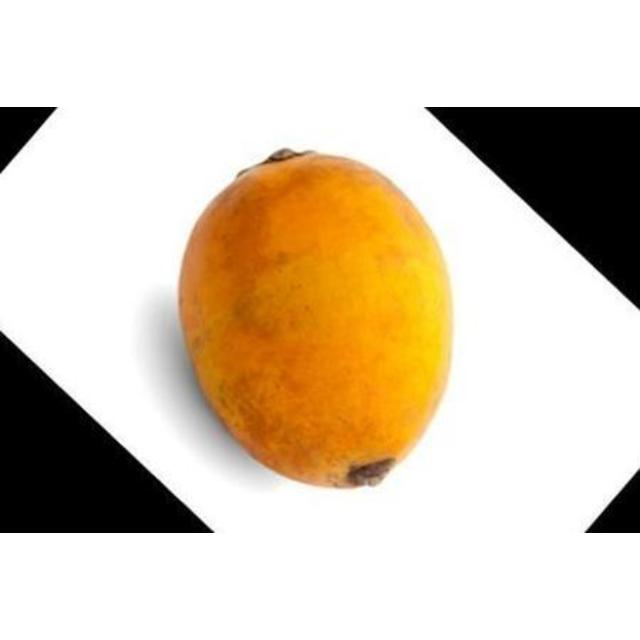good: (176, 150, 454, 490)
